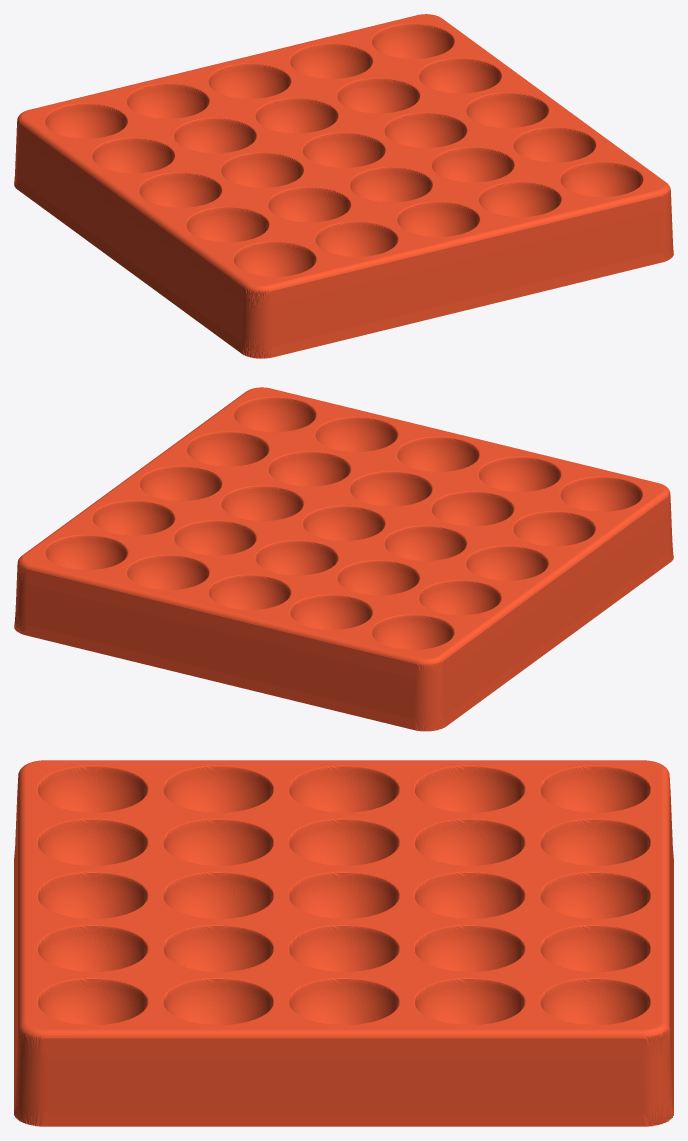
File: mold.glb
The picture shows the model from 3 angles, top to bottom: view 1: azimuth 30°, elevation 25°; view 2: azimuth 150°, elevation 25°; view 3: azimuth 270°, elevation 25°; orthographic projection. The views are drawn at different scales.
Parts seen in each view (by area): view 1: geometry_0; view 2: geometry_0; view 3: geometry_0.
Boxes of the visible parts, x1,y1,x2,y2 form: geometry_0: [14, 14, 673, 358]; geometry_0: [14, 387, 673, 731]; geometry_0: [14, 760, 673, 1126].
Size of the model in its own units: 0.193 by 0.0297 by 0.193.
